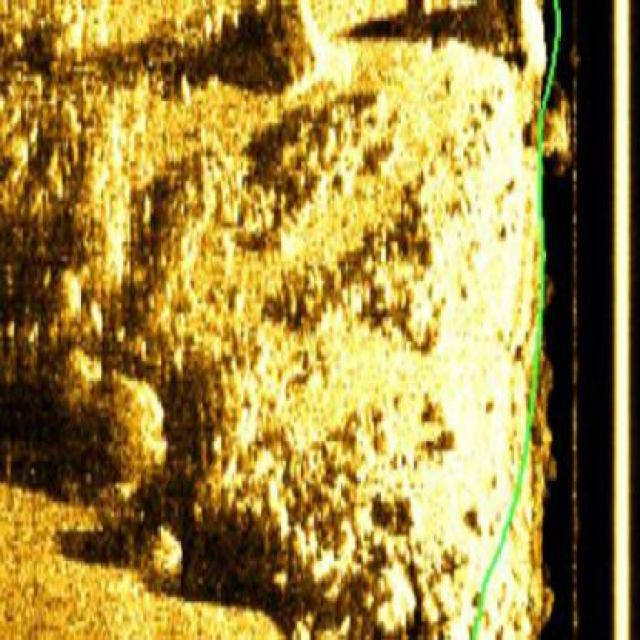bedrock group: (0, 0, 535, 638)
